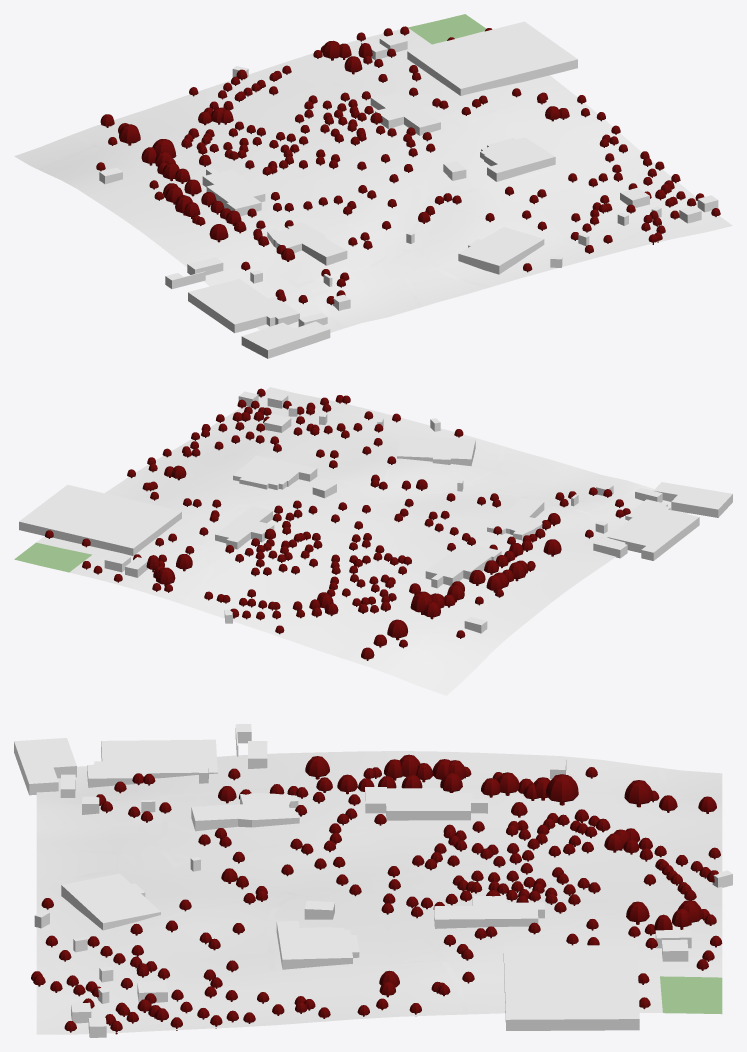
The model's file is map.glb.
3 renders of one model, top to bottom at view 1: azimuth 30°, elevation 25°; view 2: azimuth 150°, elevation 25°; view 3: azimuth 270°, elevation 25°, orthographic. The views are drawn at different scales.
Visible parts, largest first — view 1: Obj_SubDMesh_55, Obj_SubDMesh_4, Obj_SubDMesh_23, Obj_SubDMesh_15, Obj_SubDMesh_7, Obj_SubDMesh_24, Obj_SubDMesh, Obj_SubDMesh_20, Obj_SubDMesh_5, Obj_SubDMesh_54, Obj_SubDMesh_32, Obj_SubDMesh_50 (+2 smaller); view 2: Obj_SubDMesh_55, Obj_SubDMesh_4, Obj_SubDMesh_23, Obj_SubDMesh_15, Obj_SubDMesh_7, Obj_SubDMesh_24, Obj_SubDMesh, Obj_SubDMesh_5, Obj_SubDMesh_20, Obj_SubDMesh_54, Obj_SubDMesh_41, Obj_SubDMesh_32 (+2 smaller); view 3: Obj_SubDMesh_55, Obj_SubDMesh_4, Obj_SubDMesh_23, Obj_SubDMesh_15, Obj_SubDMesh, Obj_SubDMesh_7, Obj_SubDMesh_20, Obj_SubDMesh_5, Obj_SubDMesh_24, Obj_SubDMesh_54, Obj_SubDMesh_38, Obj_SubDMesh_32 (+10 smaller).
Part boxes in pixels (left/top/right/bottom): Obj_SubDMesh_55: left=14, top=28, right=732, bottom=332; Obj_SubDMesh_4: left=407, top=21, right=577, bottom=95; Obj_SubDMesh_23: left=188, top=279, right=299, bottom=333; Obj_SubDMesh_15: left=458, top=227, right=544, bottom=274; Obj_SubDMesh_7: left=480, top=137, right=555, bottom=181; Obj_SubDMesh_24: left=241, top=321, right=330, bottom=358; Obj_SubDMesh: left=202, top=168, right=265, bottom=216; Obj_SubDMesh_20: left=267, top=222, right=347, bottom=265; Obj_SubDMesh_5: left=370, top=93, right=440, bottom=135; Obj_SubDMesh_54: left=408, top=14, right=485, bottom=44; Obj_SubDMesh_32: left=180, top=135, right=389, bottom=240; Obj_SubDMesh_50: left=422, top=86, right=566, bottom=189; Obj_SubDMesh_55: left=36, top=387, right=688, bottom=695; Obj_SubDMesh_4: left=19, top=484, right=181, bottom=555; Obj_SubDMesh_23: left=607, top=499, right=699, bottom=556; Obj_SubDMesh_15: left=397, top=436, right=475, bottom=466; Obj_SubDMesh_7: left=233, top=455, right=317, bottom=489; Obj_SubDMesh_24: left=653, top=482, right=732, bottom=517; Obj_SubDMesh: left=425, top=545, right=501, bottom=588; Obj_SubDMesh_5: left=215, top=506, right=274, bottom=549; Obj_SubDMesh_20: left=487, top=497, right=544, bottom=540; Obj_SubDMesh_54: left=14, top=542, right=91, bottom=572; Obj_SubDMesh_41: left=79, top=572, right=355, bottom=616; Obj_SubDMesh_32: left=353, top=497, right=469, bottom=614; Obj_SubDMesh_55: left=36, top=751, right=722, bottom=1034; Obj_SubDMesh_4: left=503, top=945, right=639, bottom=1030; Obj_SubDMesh_23: left=87, top=739, right=217, bottom=787; Obj_SubDMesh_15: left=61, top=873, right=160, bottom=930; Obj_SubDMesh: left=365, top=787, right=487, bottom=820; Obj_SubDMesh_7: left=276, top=921, right=359, bottom=969; Obj_SubDMesh_20: left=191, top=793, right=299, bottom=831; Obj_SubDMesh_5: left=434, top=895, right=544, bottom=928; Obj_SubDMesh_24: left=14, top=738, right=76, bottom=795; Obj_SubDMesh_54: left=660, top=976, right=722, bottom=1014; Obj_SubDMesh_38: left=268, top=894, right=446, bottom=973; Obj_SubDMesh_32: left=212, top=810, right=609, bottom=861.
Bounding box in the file's own units: 366 × 34.22 × 348.
